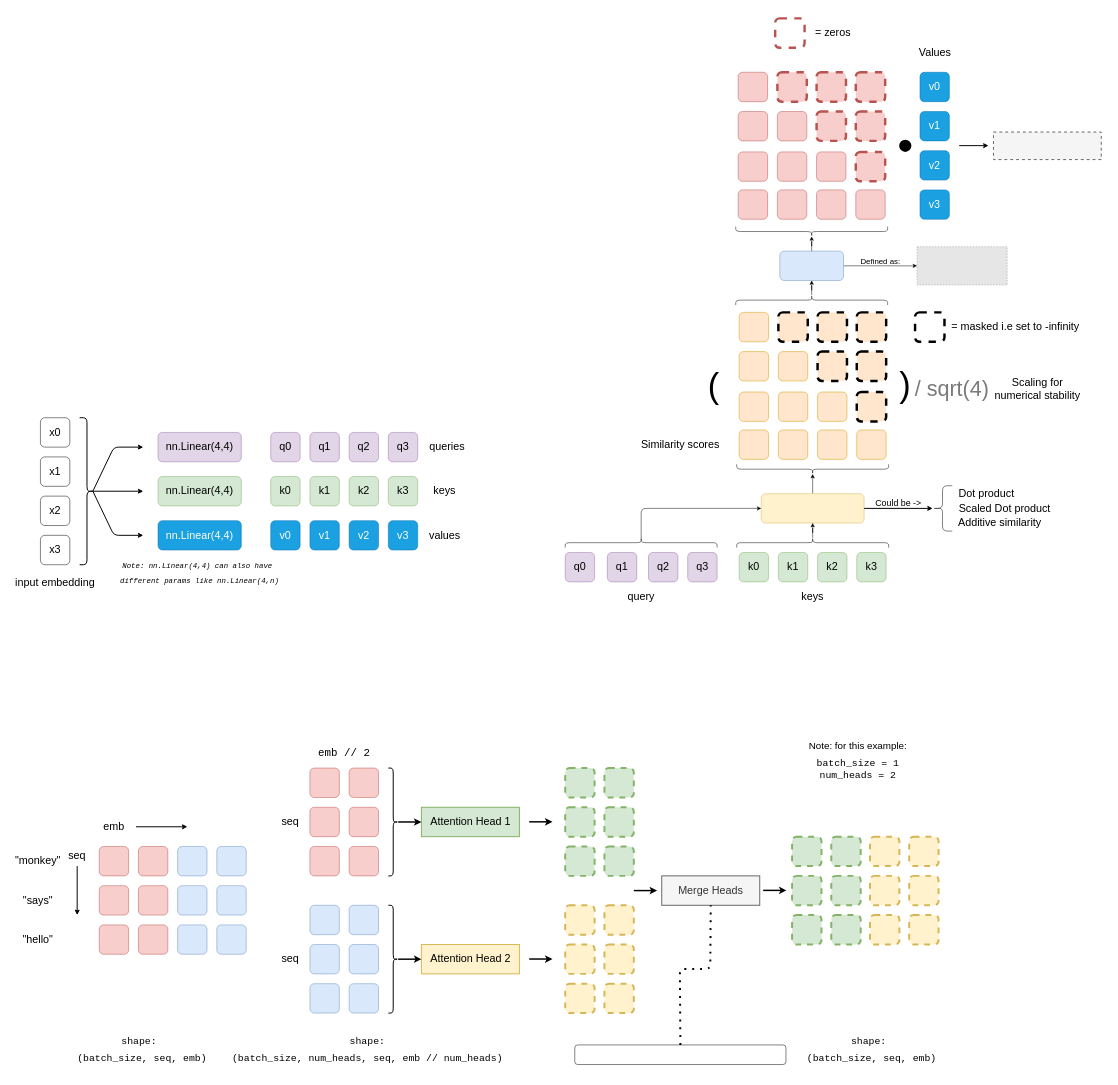
Image size: 1118x1085. Some labels were removed from this diagram. Grey dashed boxes stand in for pictures. The centre of each missing label's shape, as x and y in pixels:
".transpose(1, 2).contiguous().view(batch_size, seq, -1)" goes at point (680, 1054).
"attention output" goes at point (1047, 145).
"Similarity function" goes at point (812, 508).
"Softmax" goes at point (811, 266).
